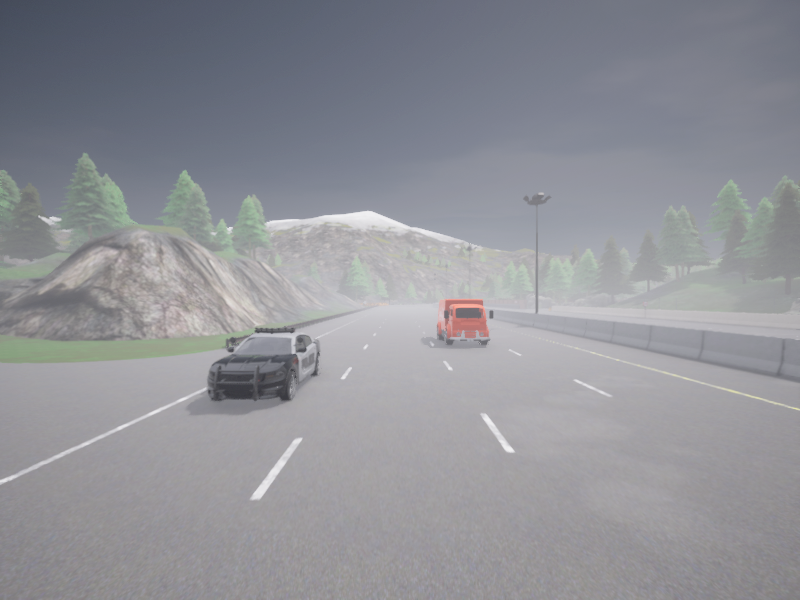vehicle: (207, 327, 320, 400), (436, 299, 493, 345)
